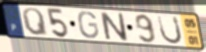5: (44, 7, 71, 39)
9: (134, 13, 157, 45)
G: (77, 10, 101, 40)
N: (98, 11, 131, 43)
Q: (21, 7, 50, 38)
U: (156, 14, 184, 46)
